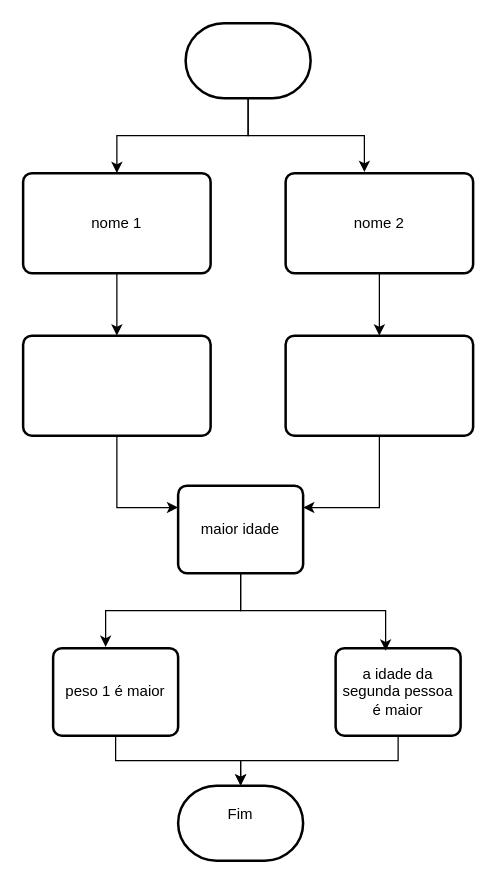
This 495x883 diagram has some shape labels left out. Each missing label, with the centre of its shape:
ano da pessoa 1: the point at 116,385
ano da pessoa 2: the point at 379,385
Inicio: the point at 247,60
